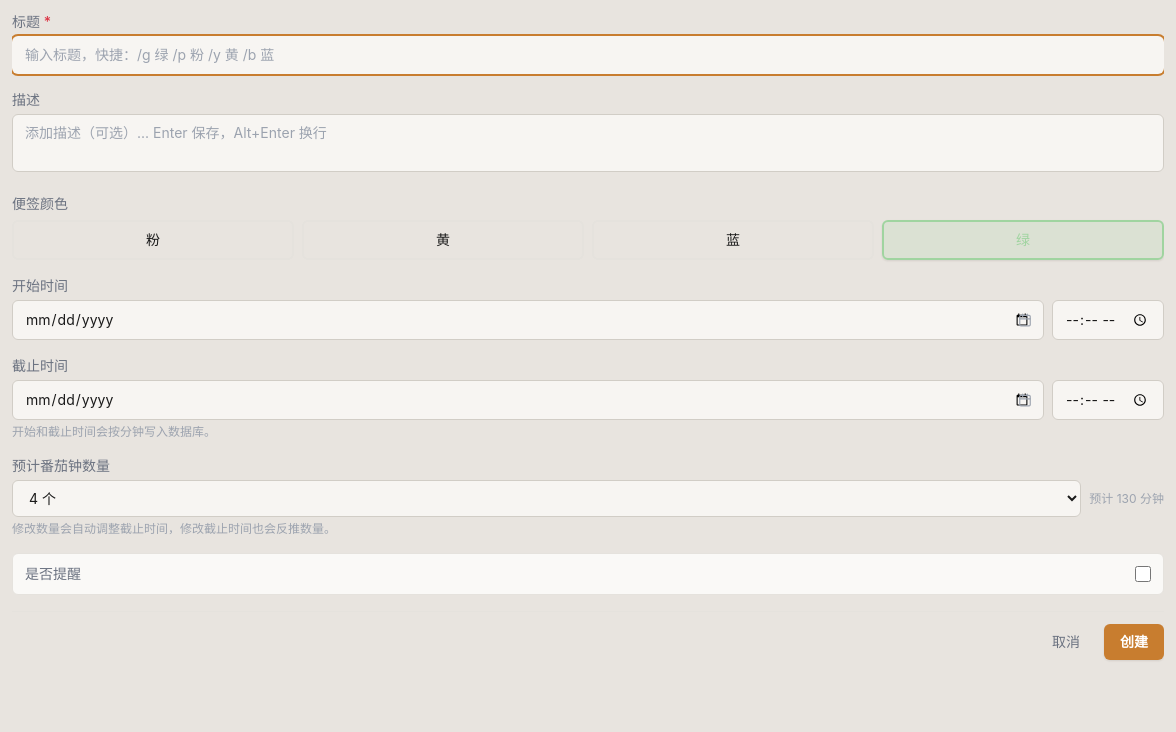
todo reminder opt-in › defaults enabled reminder to half an hour before the start time
Later steps or results of the test are not shown.
Type "提前提醒" into the field with placeholder "输入标题，快捷：/g 绿 /p 粉 /y 黄 /b 蓝" at (588, 55), box [12, 36, 1164, 74]
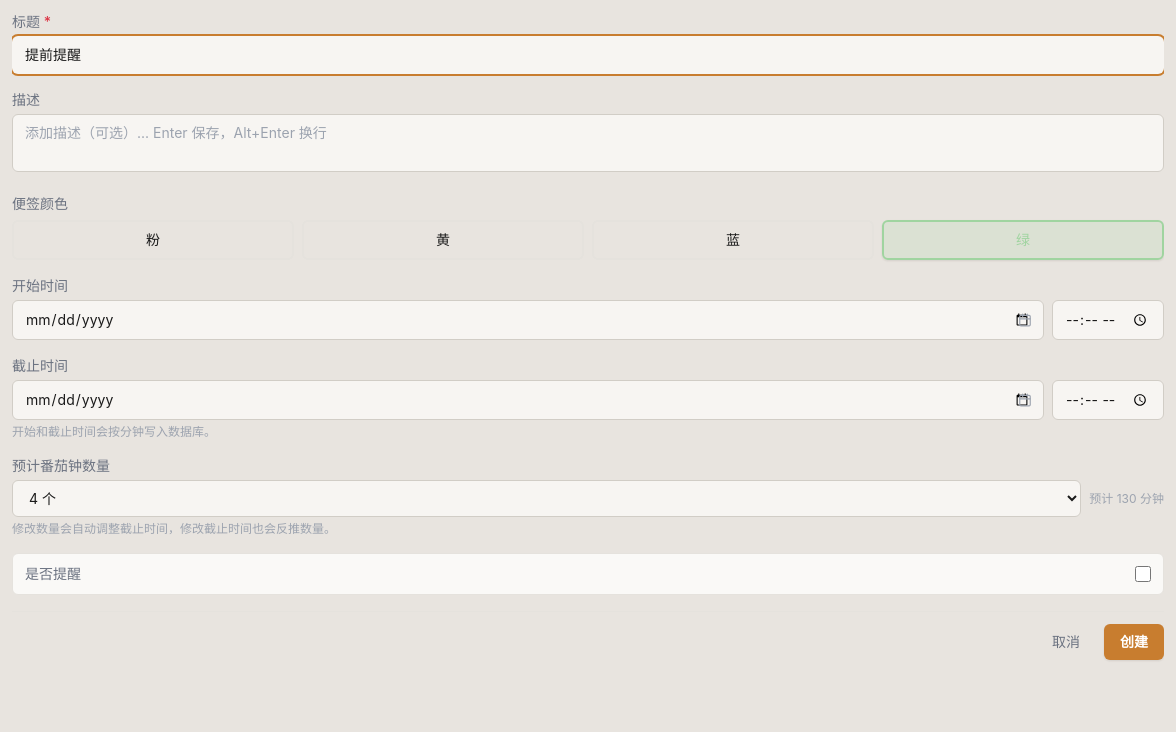
Type "2026-05-12" into the date field below "开始时间" at (528, 320), box [12, 300, 1044, 340]
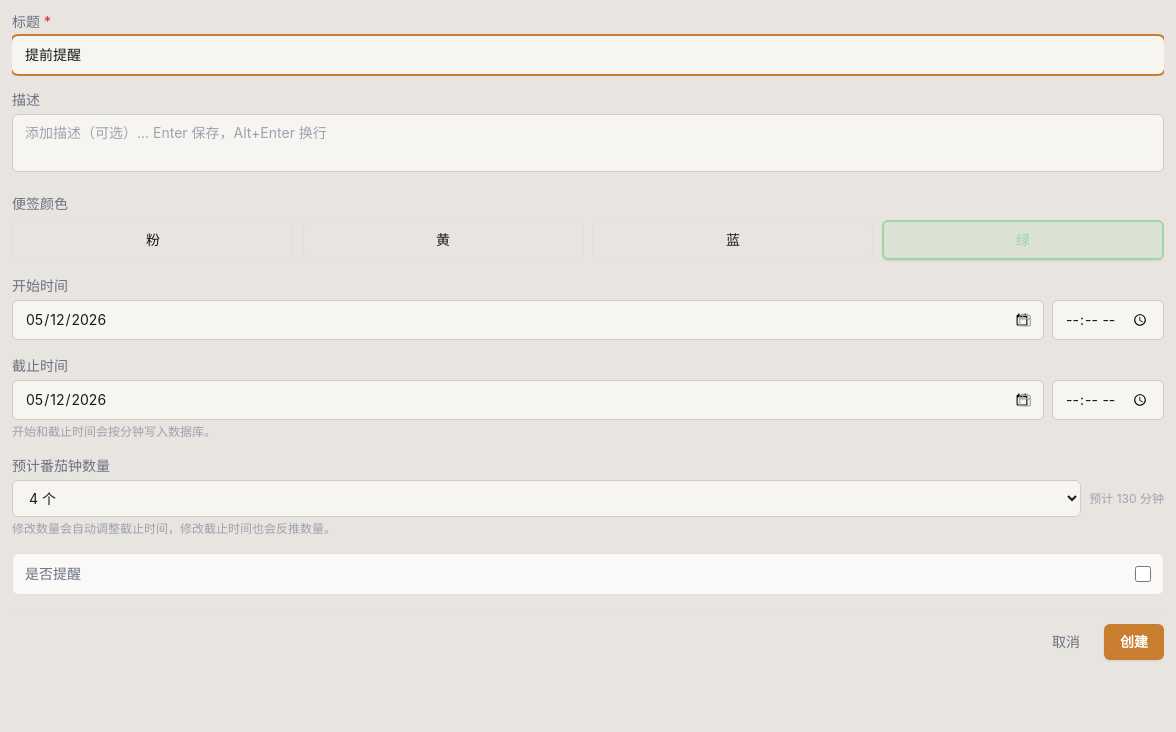
Type "09:00" into the 1st time field at (1108, 320), box [1052, 300, 1164, 340]
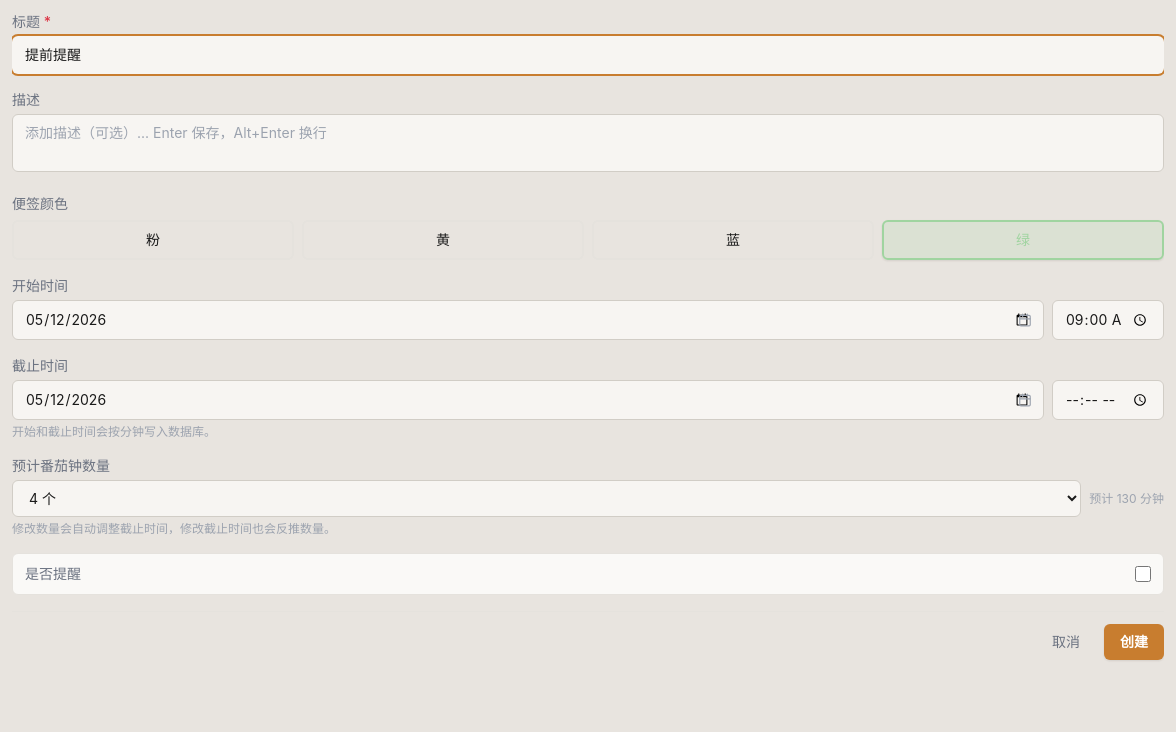
Click the checkbox labelled "是否提醒" at (1143, 574), box [1135, 566, 1151, 582]
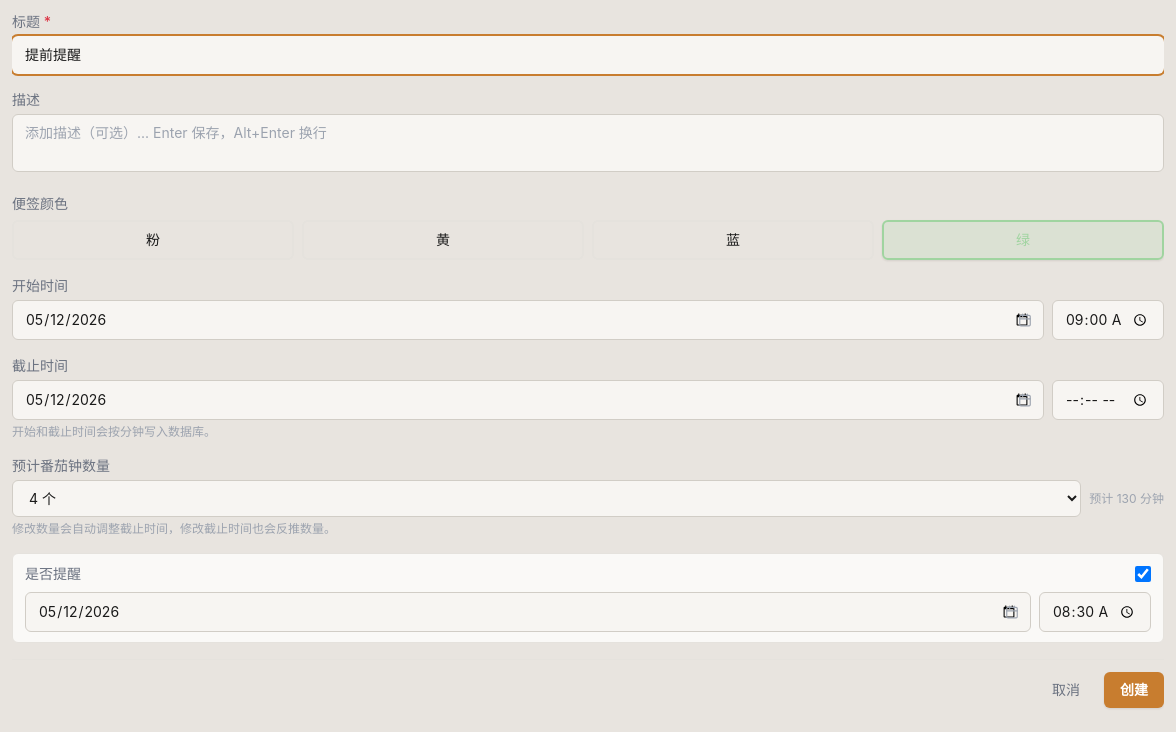
Now the date field below "是否提醒" holds "2026-05-12", box [25, 592, 1031, 632]
Now the 3rd time field holds "08:30", box [1039, 592, 1151, 632]
